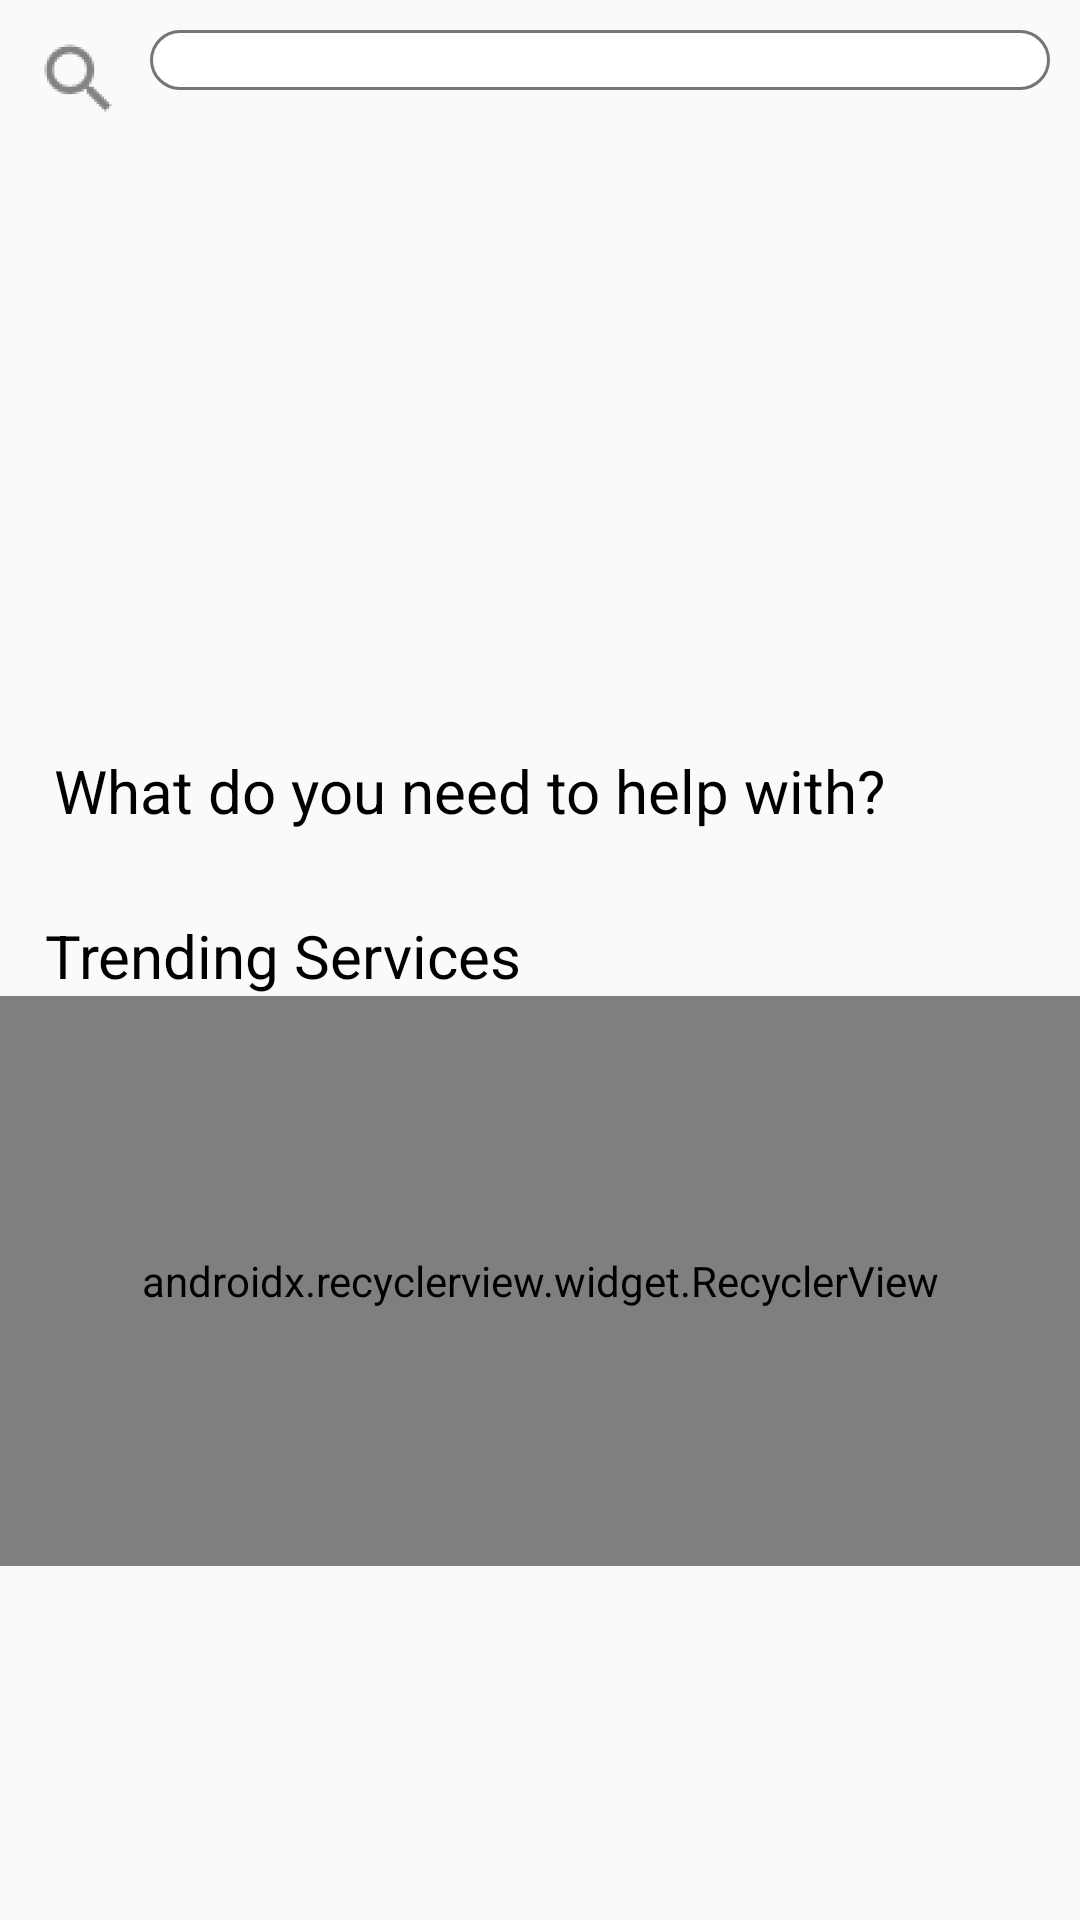

Icons on this 1080*1920 Android screen, each with its box as [x1,y1,x2,y2]:
search: [44,44,112,112]
